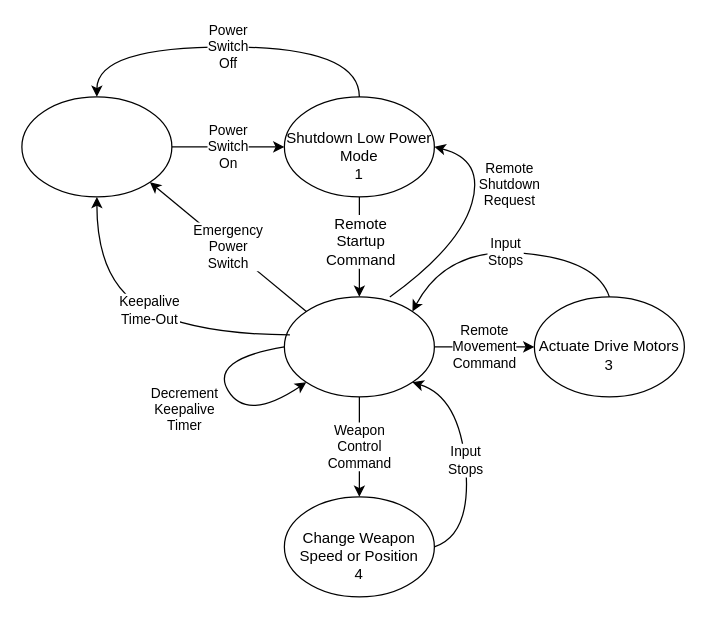
The diagram is 706 pixels wide and 619 high, and some of its shapes have lost their labels. The box of each missing label's shape, as (x1, y1, x2, y2) in pixels:
Power Off 0: (21, 96, 172, 197)
Waiting for Input 2: (283, 296, 434, 397)
